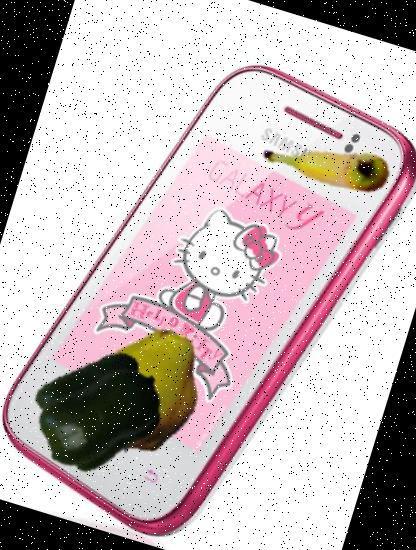Banana: (245, 85, 407, 247)
Pepper: (17, 328, 179, 490)
Quince: (65, 308, 229, 472)
